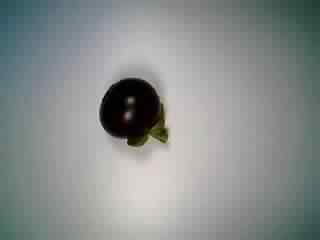mangosteen: (93, 76, 181, 145)
